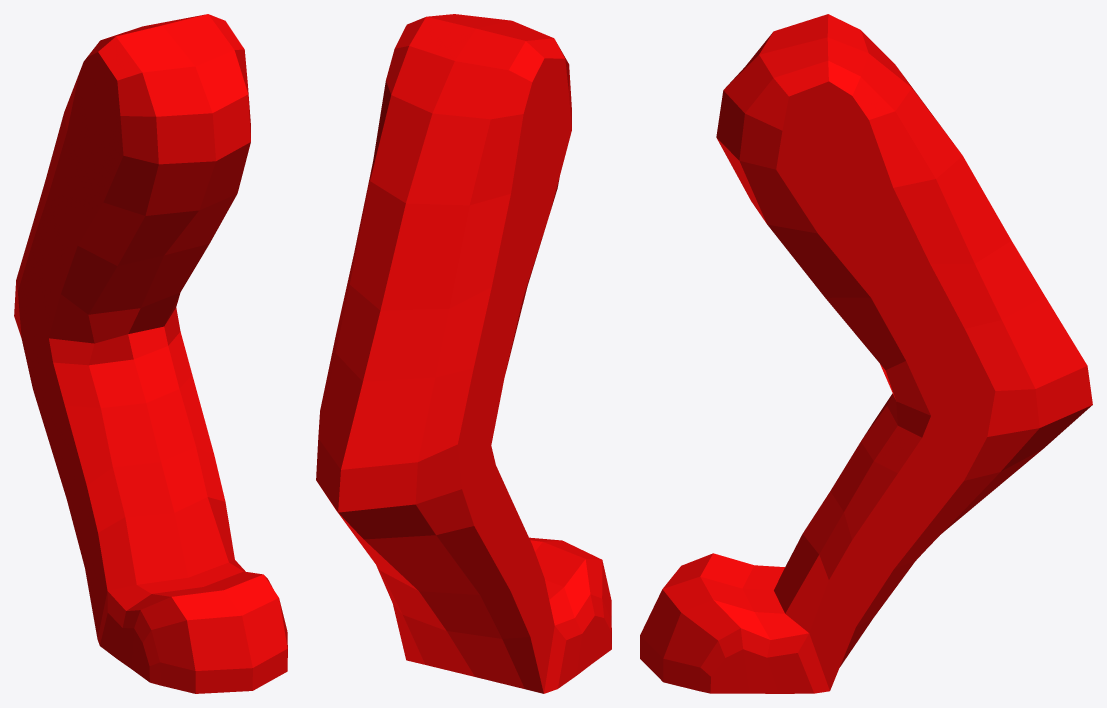
File: Mo_Shrolm_Arm.fbx
3 renders of one model, left to right at view 1: azimuth 30°, elevation 25°; view 2: azimuth 150°, elevation 25°; view 3: azimuth 270°, elevation 25°, orthographic. The views are drawn at different scales.
Visible parts, largest first — view 1: Arm3D; view 2: Arm3D; view 3: Arm3D.
Part boxes in pixels (box(x1,y1,x2,y2)): Arm3D: box(14, 14, 287, 693); Arm3D: box(316, 14, 611, 693); Arm3D: box(640, 14, 1092, 693).
Size of the model in its own units: 26.62 by 110 by 72.7.
